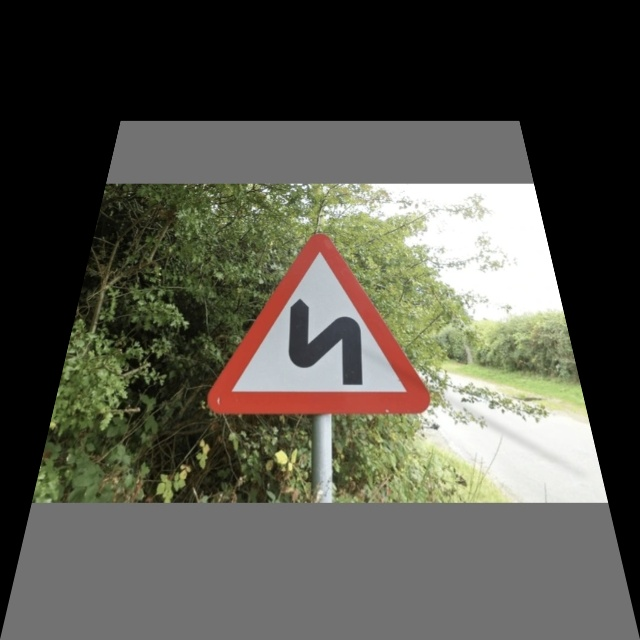Left_Reverse_Bend: (209, 233, 435, 419)
